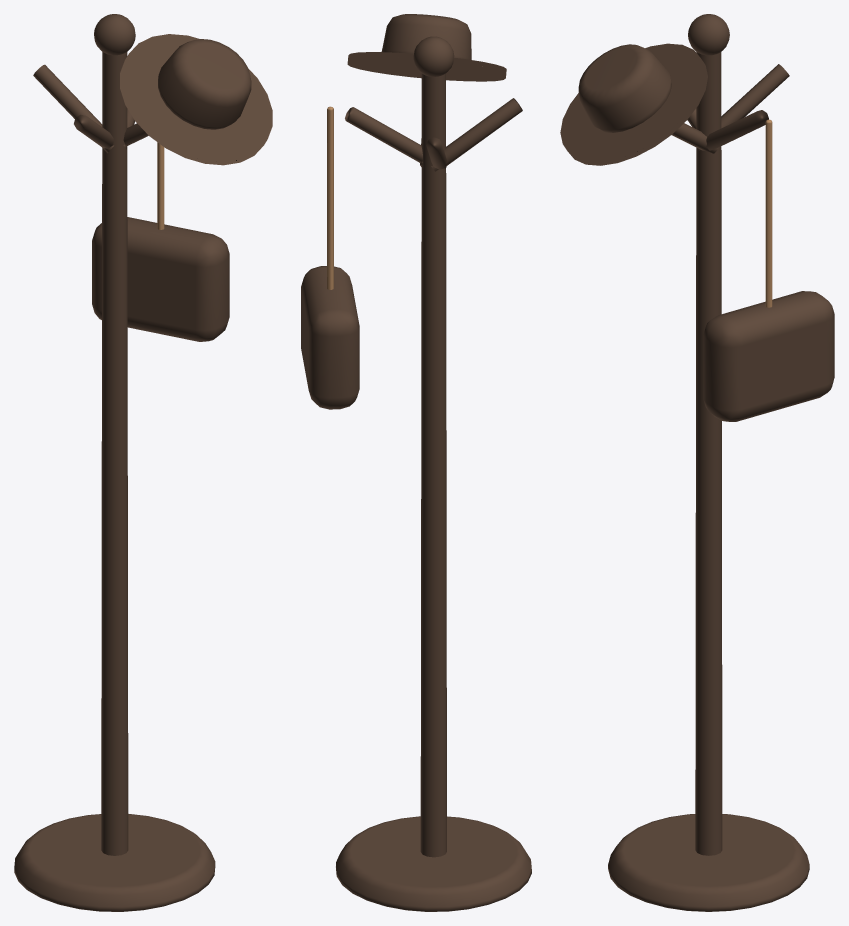
The model's file is rack.glb.
The picture shows the model from 3 angles, left to right: view 1: azimuth 30°, elevation 25°; view 2: azimuth 150°, elevation 25°; view 3: azimuth 270°, elevation 25°; orthographic projection. The views are drawn at different scales.
Parts seen in each view (by area): view 1: rack; view 2: rack; view 3: rack.
Boxes of the visible parts, box(x1,y1,x2,y2) form: rack: box(14, 14, 272, 911); rack: box(301, 14, 531, 911); rack: box(560, 14, 834, 911).
Size of the model in its own units: 0.4558 by 1.77 by 0.5155.
